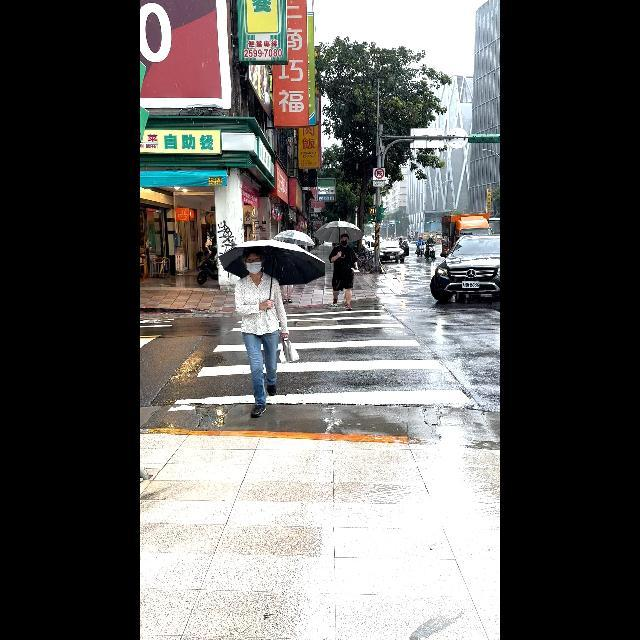sidewalk: (155, 303, 496, 445)
